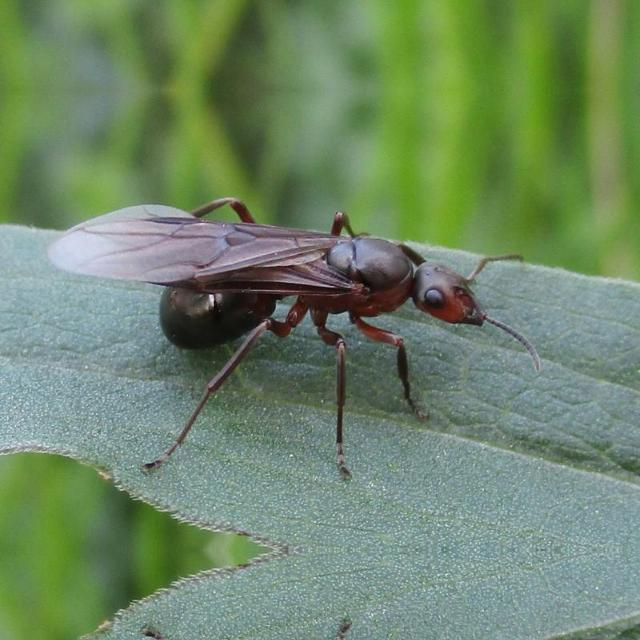Formica: (130, 185, 502, 381)
